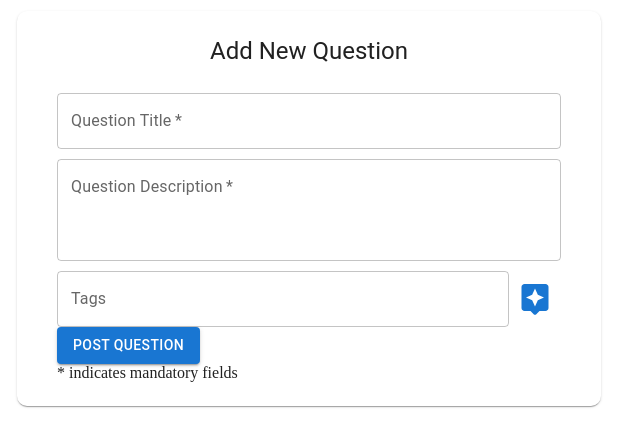
Test case: NewQuestion Component › Click without filling title
Step 1. Type "Trial Title" into the field with id "title" → point(309, 121), box top-left (57, 93), bottom-right (561, 149)
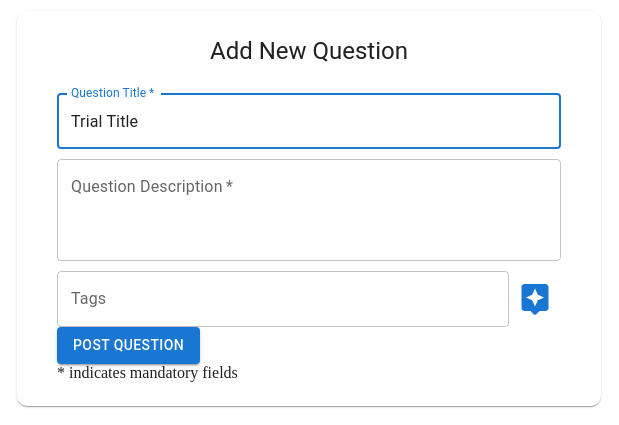
Step 2. Click the button "Post Question" → point(129, 346), box top-left (57, 327), bottom-right (200, 364)
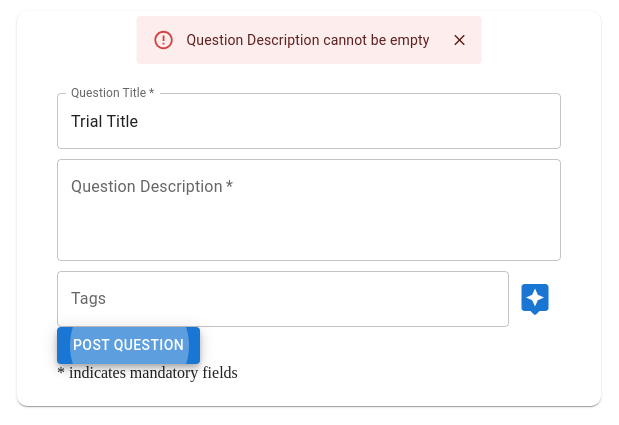
expect the text "Question Description cannot be empty" is shown: met, box top-left (187, 32), bottom-right (430, 48)
